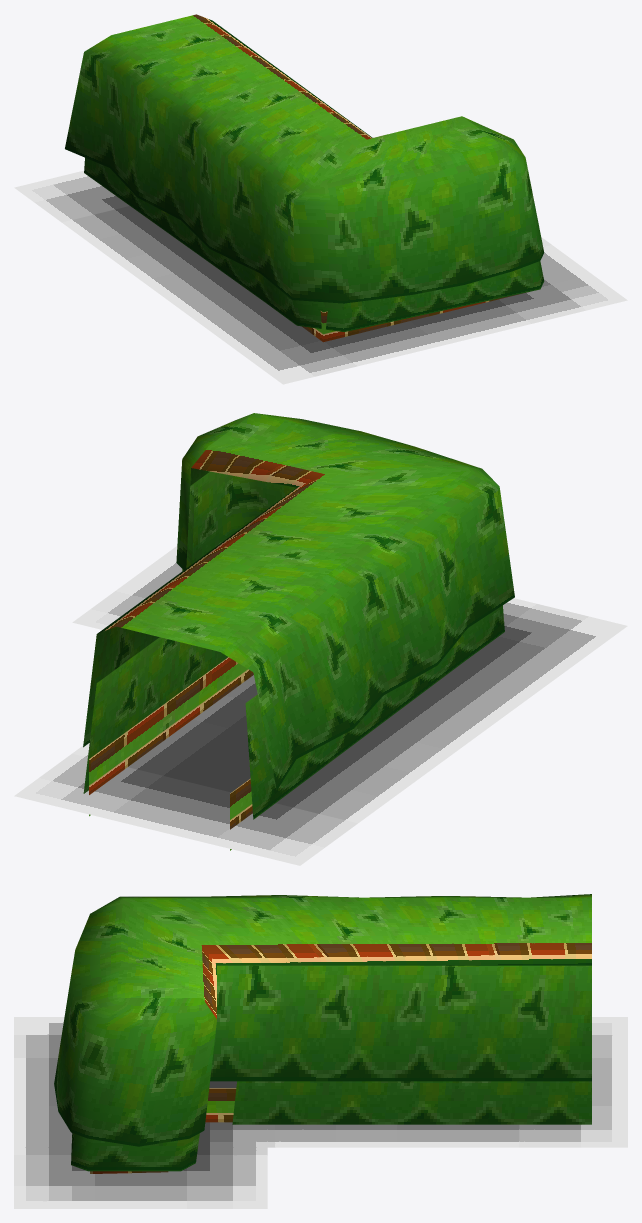
The model's file is int_fence_03.dae.
The picture shows the model from 3 angles, top to bottom: view 1: azimuth 30°, elevation 25°; view 2: azimuth 150°, elevation 25°; view 3: azimuth 270°, elevation 25°; orthographic projection. The views are drawn at different scales.
Parts seen in each view (by area): view 1: int_fence_03; view 2: int_fence_03; view 3: int_fence_03.
Boxes of the visible parts, x1,y1,x2,y2 form: int_fence_03: (14,14,627,384); int_fence_03: (14,413,627,865); int_fence_03: (14,894,627,1208).
Size of the model in its own units: 44.04 by 19.7 by 59.5.
Materials: 2 (2 with a texture image).
